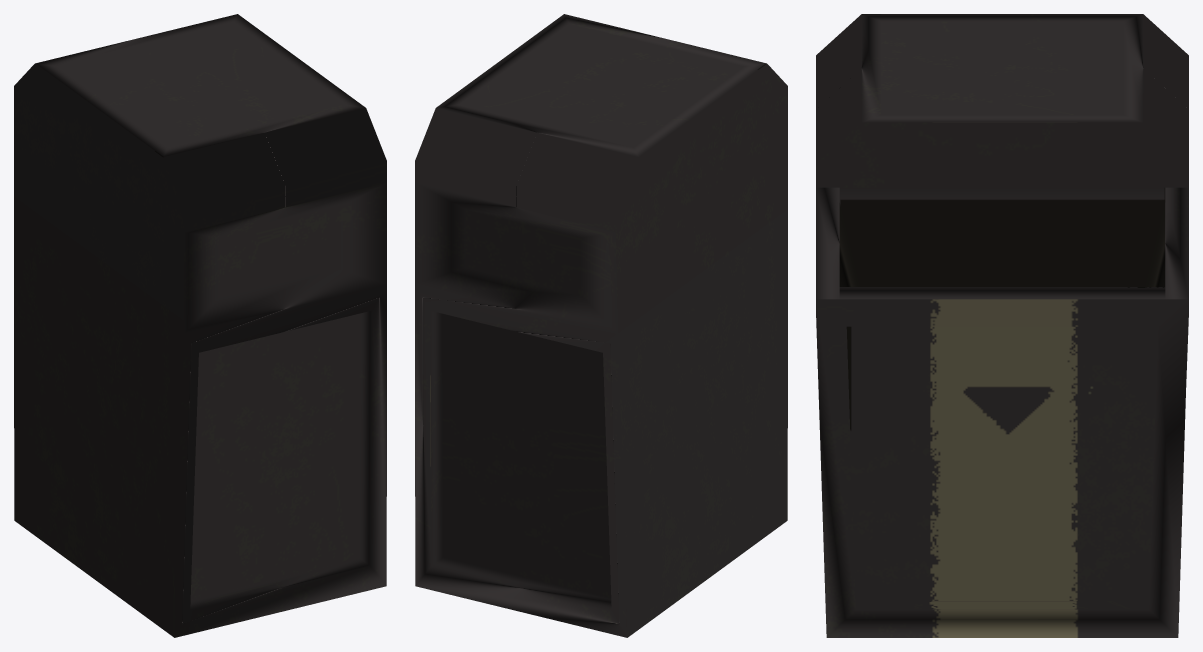
Rendered from trash.obj.
3 views of the same model, side by side, from view 1: azimuth 30°, elevation 25°; view 2: azimuth 150°, elevation 25°; view 3: azimuth 270°, elevation 25° (orthographic). The views are drawn at different scales.
Parts seen in each view (by area): view 1: Cube; view 2: Cube; view 3: Cube.
Boxes of the visible parts, x1,y1,x2,y2 form: Cube: (14, 14, 386, 637); Cube: (415, 14, 787, 637); Cube: (816, 14, 1188, 637).
Size of the model in its own units: 1.44 by 3.04 by 2.
Materials: 1 (1 with a texture image).
